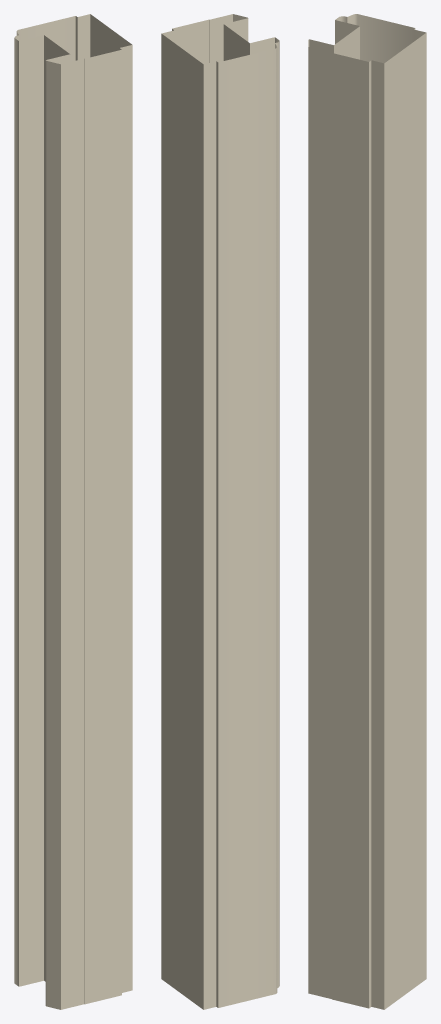
The model's file is original-38.obj.
3 views of the same model, side by side, from view 1: azimuth 30°, elevation 25°; view 2: azimuth 210°, elevation 25°; view 3: azimuth 330°, elevation 25° (orthographic).
Visible parts, largest first — view 1: BF_CR1/BF_CR/mesh334/mesh334-geometry#mesh334-geometry; view 2: BF_CR1/BF_CR/mesh334/mesh334-geometry#mesh334-geometry; view 3: BF_CR1/BF_CR/mesh334/mesh334-geometry#mesh334-geometry.
Boxes of the visible parts, bbox=[...] form: BF_CR1/BF_CR/mesh334/mesh334-geometry#mesh334-geometry: bbox=[14, 14, 132, 1009]; BF_CR1/BF_CR/mesh334/mesh334-geometry#mesh334-geometry: bbox=[161, 14, 279, 1009]; BF_CR1/BF_CR/mesh334/mesh334-geometry#mesh334-geometry: bbox=[308, 14, 426, 1009].
Size of the model in its own units: 0.0513 by 0.5695 by 0.0505.
